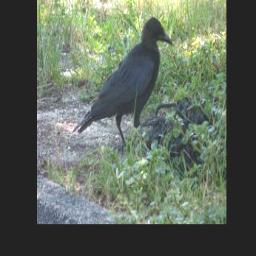Crow: (72, 16, 172, 153)
